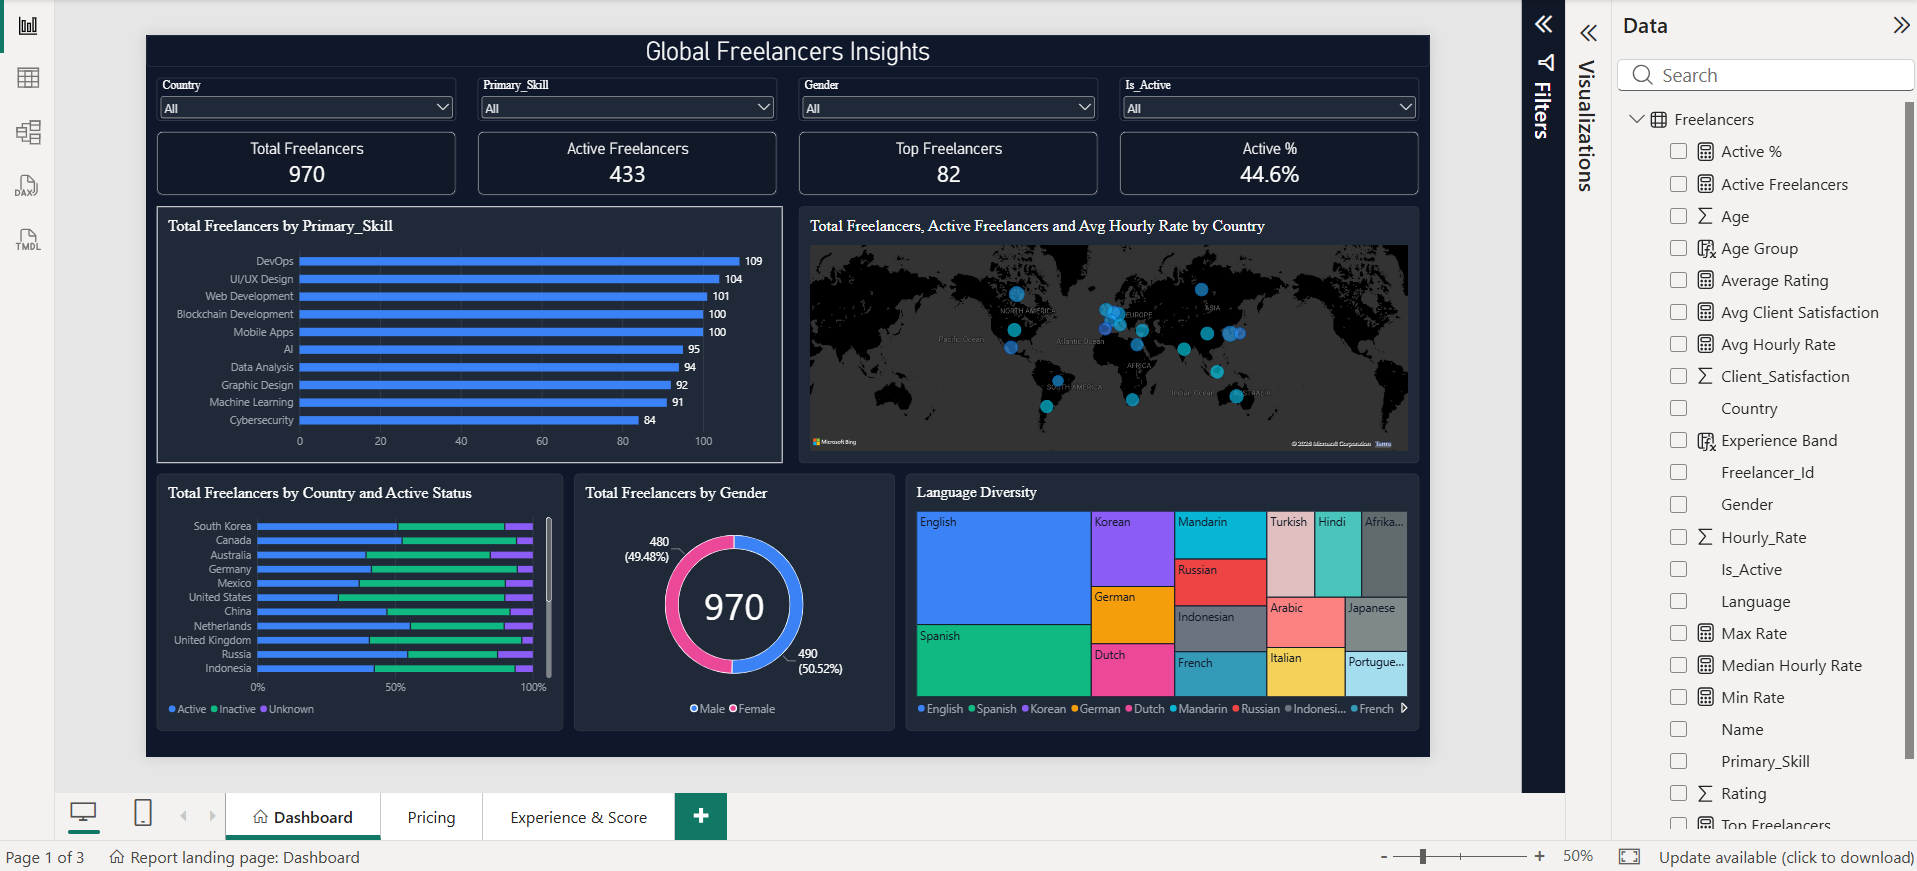

What the dashboard file says about the page in this screenshot:
{"tool":"powerbi","page":{"name":"Dashboard","canvas":[1920,1080],"ordinal":0},"visuals":[{"type":"textbox","box":[0,0,1920,48],"z":0},{"type":"slicer","fields":{"Values":["Freelancers.Country"]},"box":[16,64,448,64],"z":1000},{"type":"cardVisual","fields":{"Data":["Freelancers.Total Freelancers"]},"box":[16,144,448,96],"z":2000},{"type":"slicer","fields":{"Values":["Freelancers.Primary_Skill"]},"box":[496,64,448,64],"z":3000},{"type":"cardVisual","fields":{"Data":["Freelancers.Active Freelancers"]},"box":[496,144,448,96],"z":4000},{"type":"slicer","fields":{"Values":["Freelancers.Is_Active"]},"box":[1456,64,448,64],"z":5000},{"type":"cardVisual","fields":{"Data":["Freelancers.Active Rate %"]},"box":[1456,144,448,96],"z":6000},{"type":"clusteredBarChart","fields":{"Category":["Freelancers.Primary_Skill","Freelancers.Name"],"Y":["Freelancers.Total Freelancers"]},"box":[16,256,936,384],"z":7000},{"type":"map","fields":{"Category":["Freelancers.Country"],"Size":["Freelancers.Total Freelancers"]},"box":[976,256,928,384],"z":8000},{"type":"hundredPercentStackedBarChart","title":"Total Freelancers by Country and Active Status","fields":{"Category":["Freelancers.Country"],"Series":["Freelancers.Is_Active"],"Y":["Freelancers.Total Freelancers"]},"box":[16,656,608,384],"z":9000},{"type":"donutChart","fields":{"Category":["Freelancers.Gender"],"Y":["Freelancers.Total Freelancers"]},"box":[640,656,480,384],"z":10000},{"type":"treemap","title":"Language Diversity","fields":{"Group":["Freelancers.Language"],"Values":["Freelancers.Total Freelancers"]},"box":[1136,656,768,384],"z":11000},{"type":"slicer","fields":{"Values":["Freelancers.Gender"]},"box":[976,64,448,64],"z":12000},{"type":"cardVisual","fields":{"Data":["Freelancers.Top Freelancers"]},"box":[976,144,448,96],"z":13000}]}

Visuals, with their boxes on the page's 1920x1080 design canvas (x1, y1, x2, y2). These are canvas units, not pixel positions in the 1917x871 screenshot, which may show the page scaled, cropped or inside an application window:
textbox: x1=0, y1=0, x2=1920, y2=48
slicer - Freelancers.Country: x1=16, y1=64, x2=464, y2=128
cardVisual - Freelancers.Total Freelancers: x1=16, y1=144, x2=464, y2=240
slicer - Freelancers.Primary_Skill: x1=496, y1=64, x2=944, y2=128
cardVisual - Freelancers.Active Freelancers: x1=496, y1=144, x2=944, y2=240
slicer - Freelancers.Is_Active: x1=1456, y1=64, x2=1904, y2=128
cardVisual - Freelancers.Active Rate %: x1=1456, y1=144, x2=1904, y2=240
clusteredBarChart - Freelancers.Primary_Skill x Freelancers.Name: x1=16, y1=256, x2=952, y2=640
map - Freelancers.Country x Freelancers.Total Freelancers: x1=976, y1=256, x2=1904, y2=640
"Total Freelancers by Country and Active Status" hundredPercentStackedBarChart: x1=16, y1=656, x2=624, y2=1040
donutChart - Freelancers.Gender x Freelancers.Total Freelancers: x1=640, y1=656, x2=1120, y2=1040
"Language Diversity" treemap: x1=1136, y1=656, x2=1904, y2=1040
slicer - Freelancers.Gender: x1=976, y1=64, x2=1424, y2=128
cardVisual - Freelancers.Top Freelancers: x1=976, y1=144, x2=1424, y2=240
